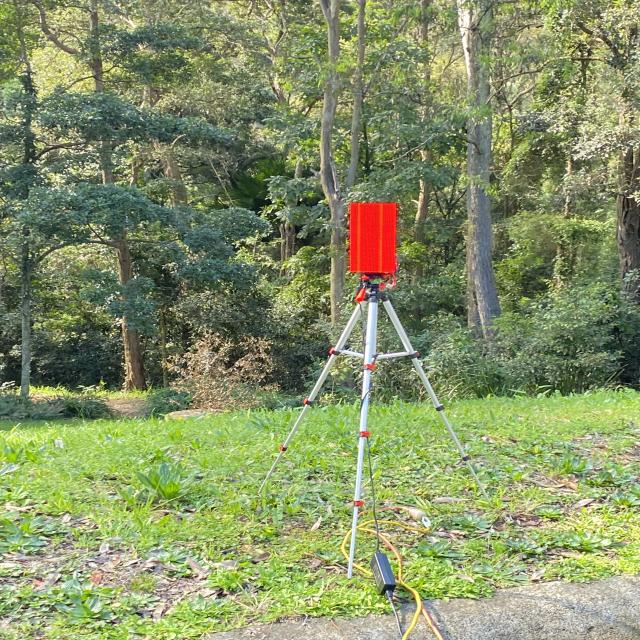matrix: (343, 196, 404, 277)
